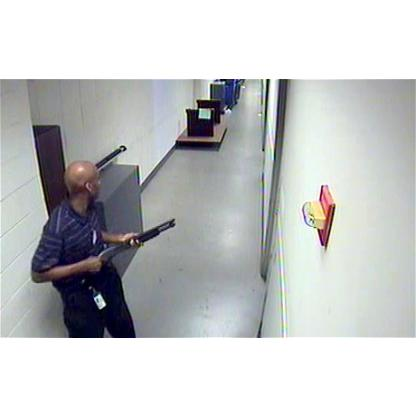gun: (86, 216, 176, 276)
